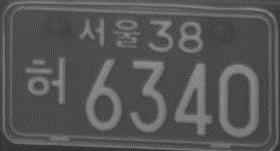0: (217, 62, 260, 137)
3: (129, 57, 169, 135), (146, 18, 174, 53)
4: (172, 63, 214, 137)
6: (85, 57, 123, 132)
8: (176, 21, 205, 54)
서울_O: (77, 16, 142, 50)
허: (23, 54, 69, 106)
